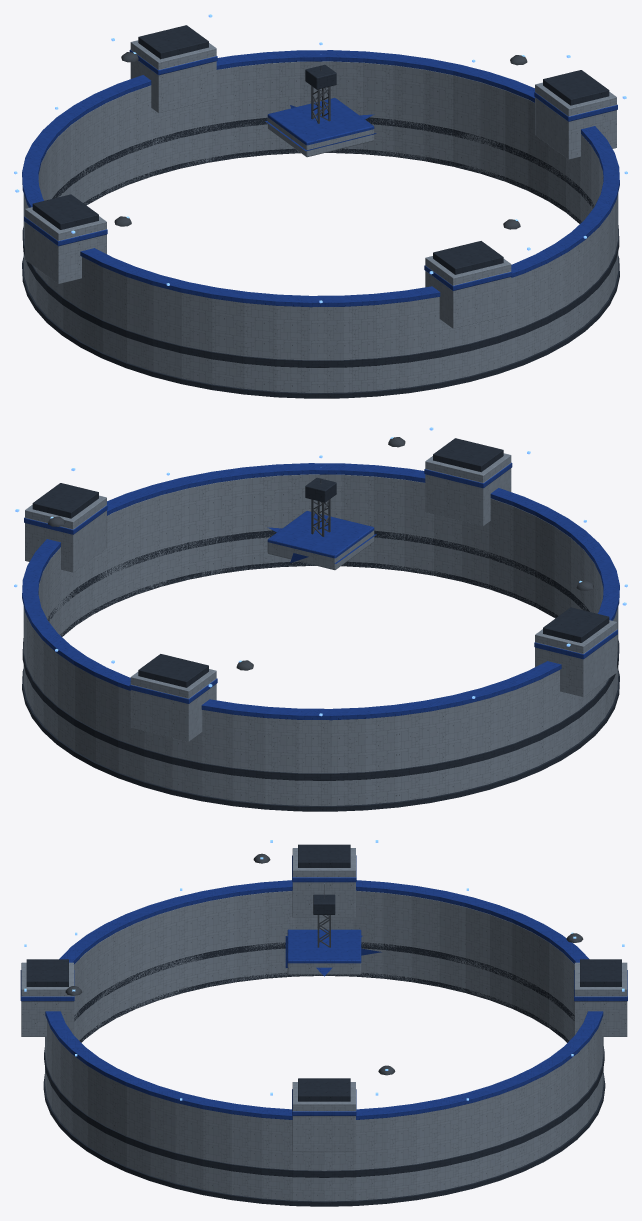
File: var_station_kit_concord_v01.glb
The picture shows the model from 3 angles, top to bottom: view 1: azimuth 30°, elevation 25°; view 2: azimuth 150°, elevation 25°; view 3: azimuth 270°, elevation 25°; orthographic projection. The views are drawn at different scales.
Parts seen in each view (by area): view 1: LOD0_Hull, LOD1_Hull, LOD0_Armor, LOD0_Livery, LOD1_Armor, LOD1_Livery, LOD0_Mechanical; view 2: LOD0_Hull, LOD1_Hull, LOD0_Armor, LOD0_Livery, LOD1_Livery, LOD1_Armor, LOD0_Mechanical; view 3: LOD0_Hull, LOD1_Hull, LOD0_Armor, LOD0_Livery, LOD1_Livery, LOD1_Armor, LOD0_Mechanical.
Part boxes in pixels (left/top/right/bottom): LOD0_Hull: left=23, top=40, right=618, bottom=392; LOD1_Hull: left=23, top=61, right=618, bottom=392; LOD0_Armor: left=22, top=25, right=619, bottom=398; LOD0_Livery: left=22, top=49, right=619, bottom=307; LOD1_Armor: left=22, top=117, right=619, bottom=398; LOD1_Livery: left=22, top=50, right=619, bottom=306; LOD0_Mechanical: left=114, top=52, right=527, bottom=229; LOD0_Hull: left=23, top=453, right=618, bottom=805; LOD1_Hull: left=23, top=474, right=618, bottom=805; LOD0_Armor: left=22, top=438, right=619, bottom=811; LOD0_Livery: left=22, top=462, right=619, bottom=720; LOD1_Livery: left=22, top=463, right=619, bottom=720; LOD1_Armor: left=22, top=531, right=619, bottom=811; LOD0_Mechanical: left=48, top=437, right=593, bottom=670; LOD0_Hull: left=21, top=848, right=627, bottom=1201; LOD1_Hull: left=45, top=891, right=603, bottom=1201; LOD0_Armor: left=26, top=844, right=621, bottom=1206; LOD0_Livery: left=20, top=855, right=627, bottom=1119; LOD1_Livery: left=45, top=880, right=602, bottom=1119; LOD1_Armor: left=43, top=943, right=605, bottom=1206; LOD0_Mechanical: left=65, top=853, right=583, bottom=1075.
Size of the model in its own units: 119 by 42.82 by 117.
5 materials, 4 textured.
